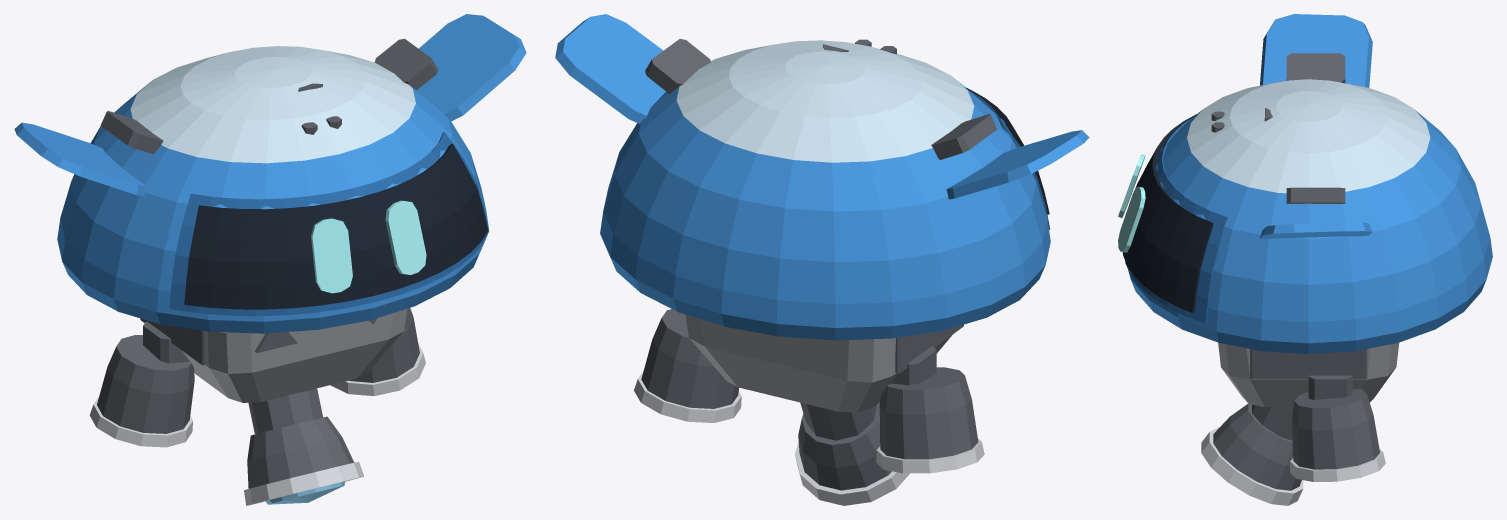
Rendered from robo-guia.fbx.
3 renders of one model, left to right at view 1: azimuth 30°, elevation 25°; view 2: azimuth 150°, elevation 25°; view 3: azimuth 270°, elevation 25°, orthographic. The views are drawn at different scales.
Visible parts, largest first — view 1: Cabeca, Corpo, Luz, Jatos; view 2: Cabeca, Corpo; view 3: Cabeca, Corpo, Luz.
Part boxes in pixels (<box>): Cabeca: <box>14,14,526,333</box>; Corpo: <box>89,308,425,505</box>; Luz: <box>311,200,426,293</box>; Jatos: <box>265,481,345,504</box>; Cabeca: <box>555,14,1089,340</box>; Corpo: <box>634,309,984,505</box>; Cabeca: <box>1122,14,1492,354</box>; Corpo: <box>1201,342,1399,505</box>; Luz: <box>1118,154,1145,252</box>.
Bounding box in the file's own units: 0.7002 × 0.5907 × 0.5127.
Materials: 1 (1 with a texture image).
